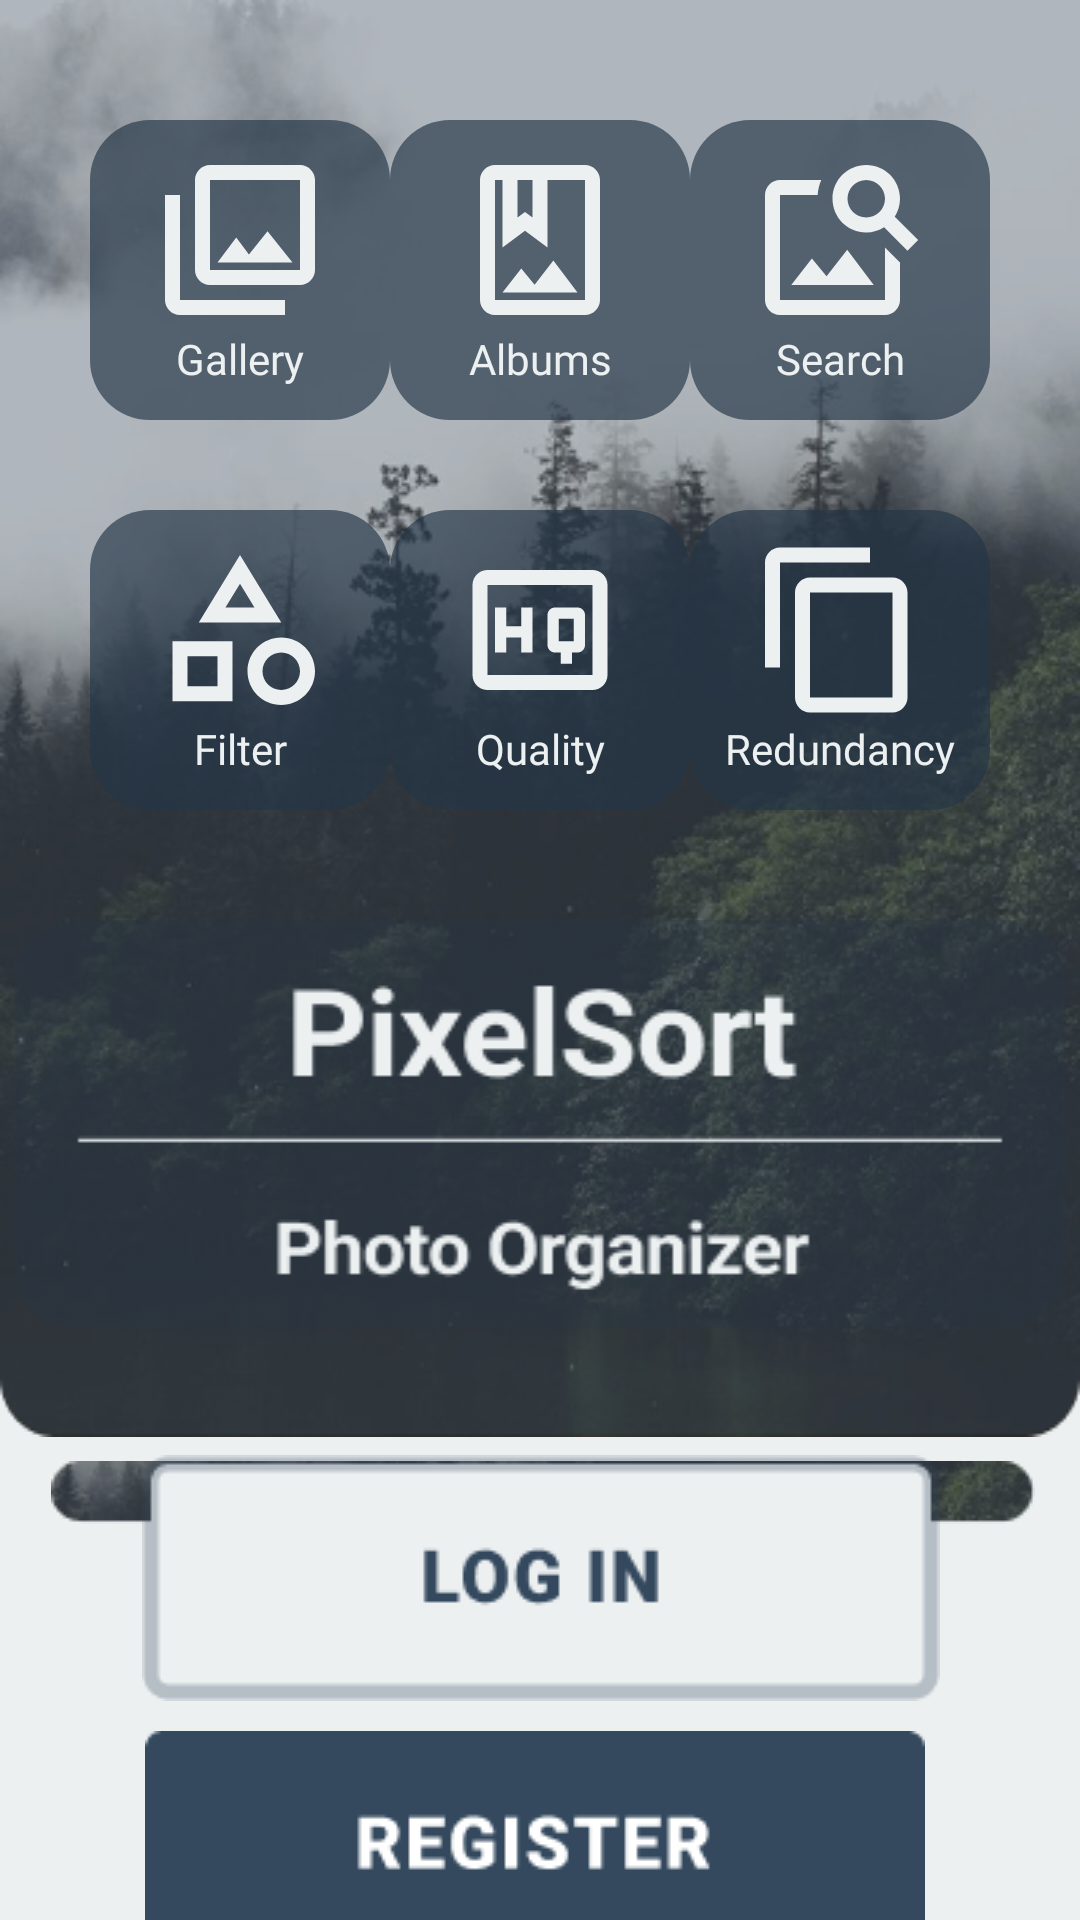

Screen size 1080w x 1920h. Icon name, then its center in pixels as (x=x, y=y):
category: (x=240, y=630)
